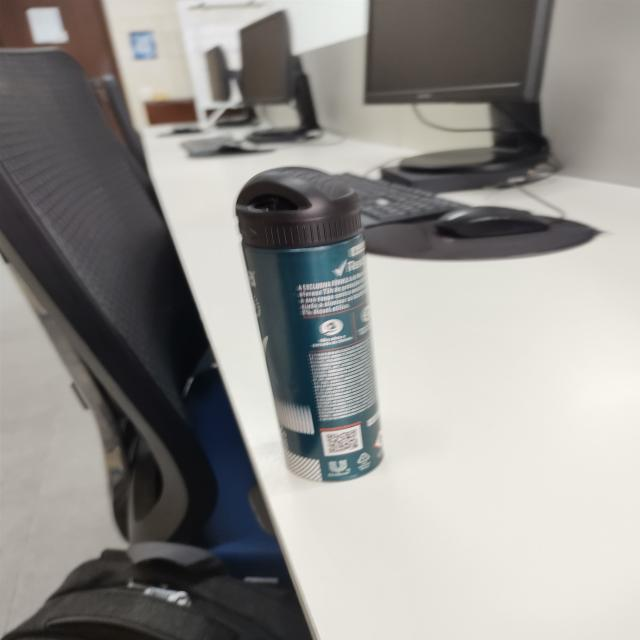Desodorante Azul: (236, 162, 382, 481)
